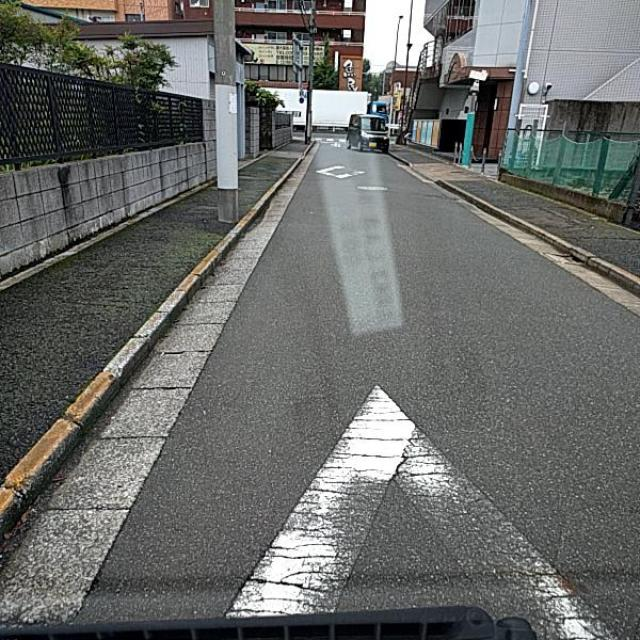Crack: (175, 411, 623, 627)
